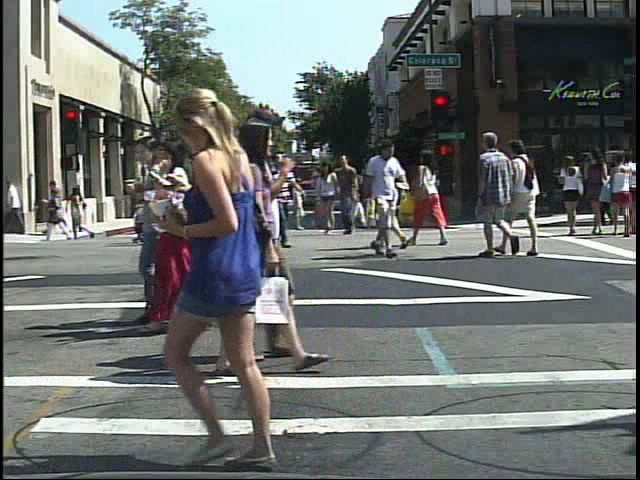person: (154, 78, 335, 476), (181, 119, 301, 381), (134, 134, 233, 343), (250, 105, 320, 366), (126, 130, 173, 331), (362, 133, 410, 259), (474, 127, 516, 264), (370, 133, 412, 252), (200, 142, 241, 260), (240, 150, 282, 261), (509, 133, 546, 259), (265, 147, 309, 251), (408, 143, 450, 251), (224, 150, 262, 253), (195, 153, 233, 252), (557, 150, 589, 238), (169, 171, 190, 240), (67, 182, 87, 232)
